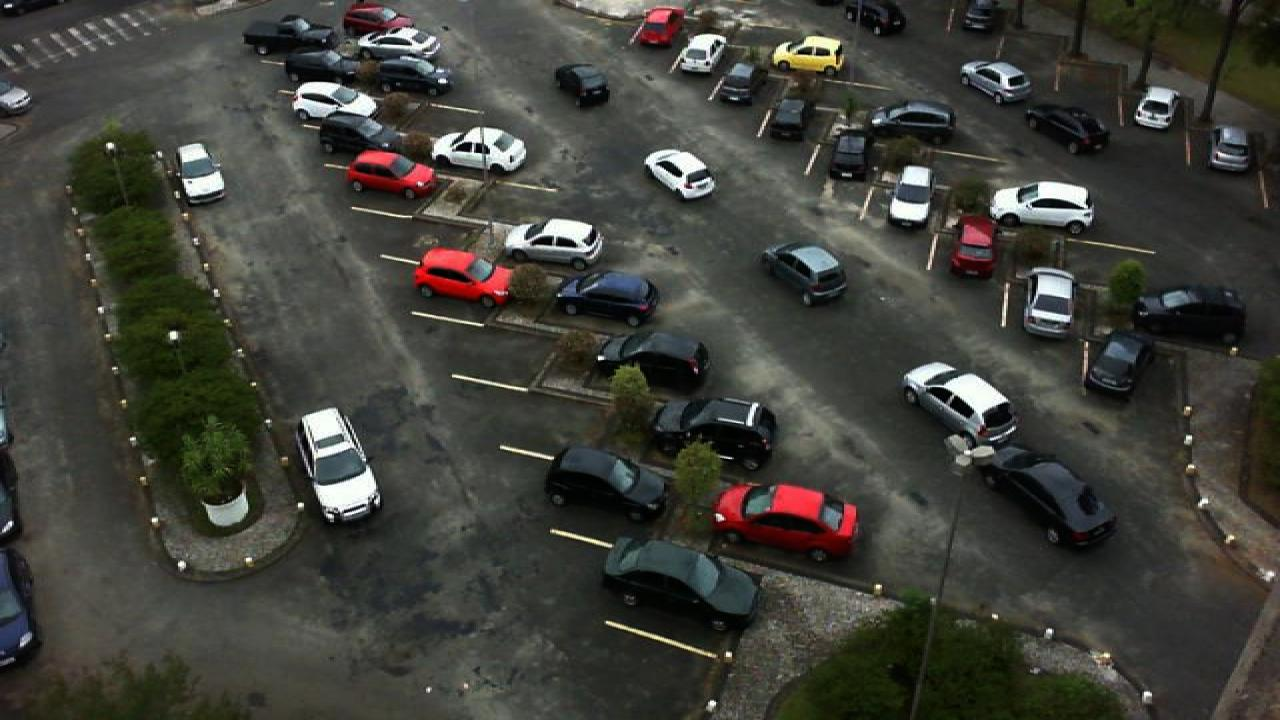Car: (598, 534, 762, 634), (978, 445, 1120, 548), (710, 482, 860, 562), (900, 360, 1020, 451), (296, 406, 384, 527), (544, 446, 672, 524), (654, 395, 780, 472), (1130, 282, 1250, 344), (594, 329, 710, 387), (554, 269, 660, 327), (988, 181, 1098, 236), (412, 246, 512, 306), (762, 242, 848, 307), (504, 217, 608, 270), (430, 124, 530, 176), (1082, 330, 1158, 398), (348, 149, 438, 199), (1022, 105, 1112, 155), (1022, 266, 1082, 338), (318, 110, 408, 156), (868, 99, 960, 144), (288, 81, 382, 125), (644, 148, 718, 202), (242, 14, 328, 55), (948, 214, 1002, 279), (174, 140, 228, 204), (886, 164, 936, 232), (960, 60, 1034, 103), (772, 34, 846, 74), (356, 27, 442, 61), (376, 58, 452, 96), (284, 50, 364, 86), (342, 2, 420, 36), (554, 62, 610, 109), (632, 4, 688, 50), (674, 32, 730, 76), (842, 0, 906, 38), (1206, 124, 1254, 174), (1134, 84, 1182, 133), (712, 61, 758, 107), (828, 132, 870, 182), (768, 96, 810, 142), (958, 0, 1008, 33)
